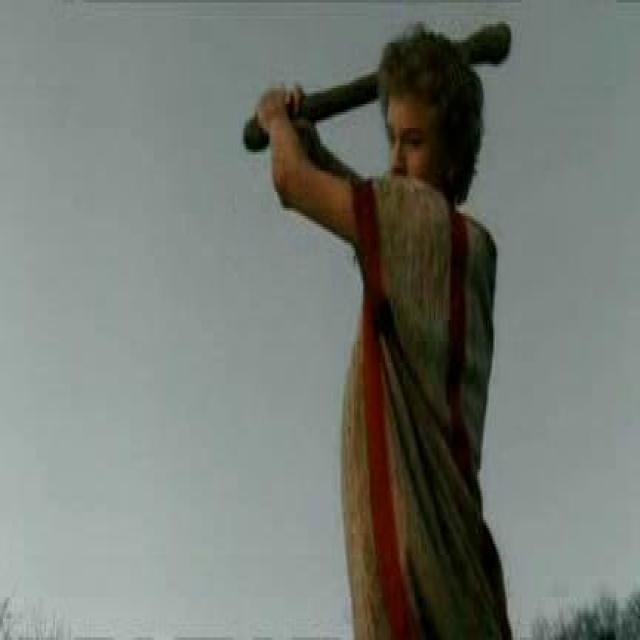fight: (243, 32, 640, 640)
